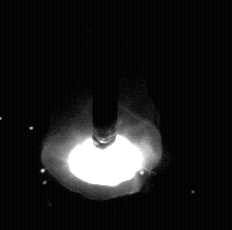arame: (93, 0, 119, 149)
poca: (41, 0, 164, 230)
